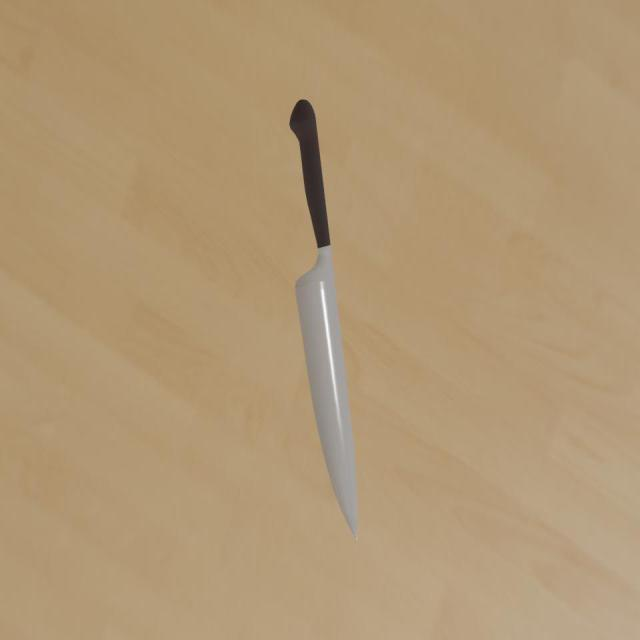knife: (289, 100, 331, 253)
